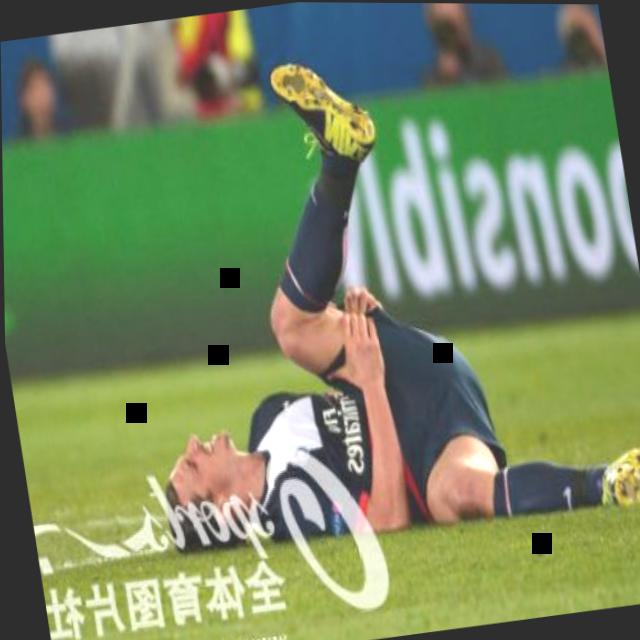Fall-Detected: (61, 0, 640, 598)
